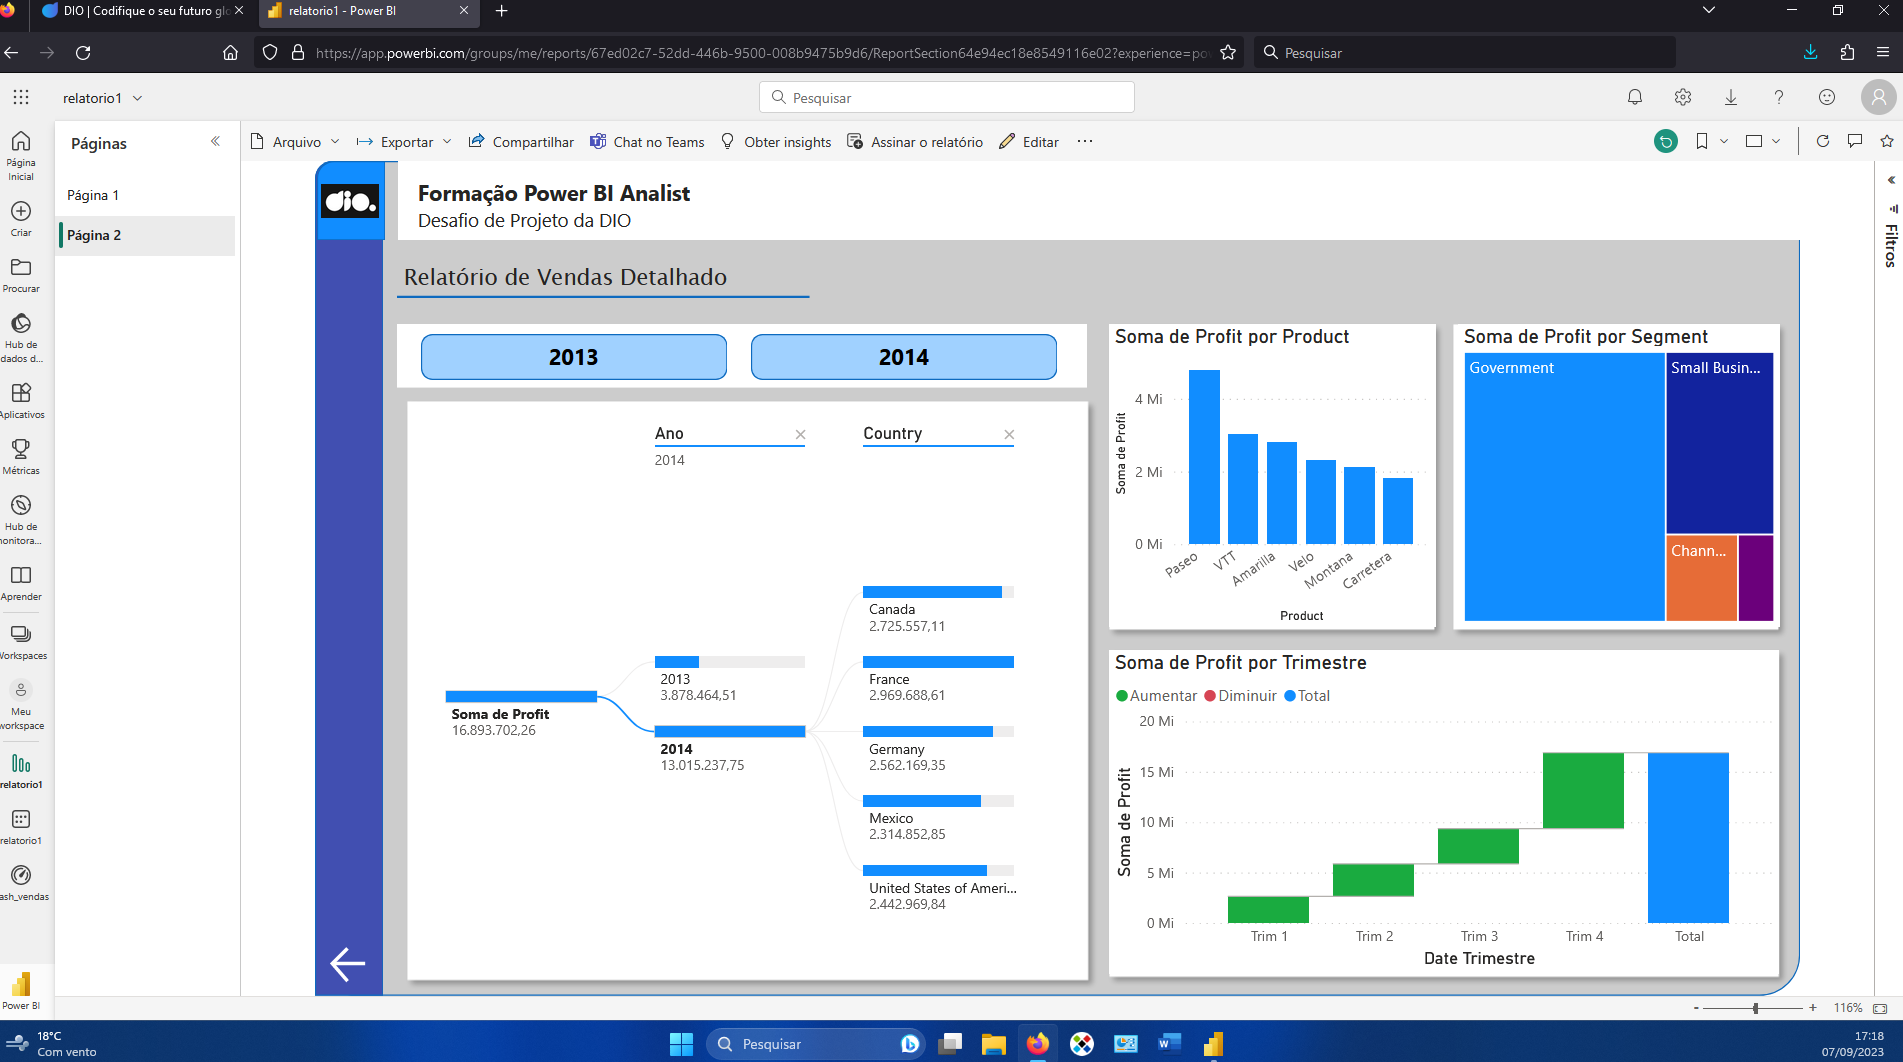

What the dashboard file says about the page in this screenshot:
{"tool":"powerbi","page":{"name":"Página 2","canvas":[1280,720],"ordinal":1},"visuals":[{"type":"shape","box":[0,0,1280.6,719.8],"z":0},{"type":"image","title":"logo_dio","box":[0,0,60.3,68.6],"z":0,"group":"g1"},{"type":"shape","box":[0,0,59,719.8],"z":2000},{"type":"shape","box":[1.4,0,59,68.6],"z":4000},{"type":"shape","box":[71.3,0,1209.3,68.6],"z":5000},{"type":"textbox","box":[83.6,9.6,889.8,59],"z":6000},{"type":"shape","box":[70.9,140.6,595.3,55],"z":7000},{"type":"textbox","box":[71.3,82.3,682.8,43.9],"z":12000},{"type":"shape","box":[70.9,94.1,355.7,46.5],"z":13000},{"type":"shape","box":[70.9,198,605.1,517.1],"z":14000},{"type":"shape","box":[676,413.2,595.3,299.5],"z":15000},{"type":"shape","box":[676,132,298.3,281.2],"z":17000},{"type":"group","id":"g1","title":"filtro_por_data","box":[0,0,60.3,68.6],"z":21000},{"type":"actionButton","box":[8.6,672.3,100.2,40.3],"z":23001},{"type":"shape","box":[973,132,298.3,281.2],"z":23002},{"type":"treemap","fields":{"Values":["Sum(financials.Profit)"],"Group":["financials.Segment"]},"box":[985.3,140.6,277.5,261.6],"z":23003},{"type":"decompositionTreeVisual","fields":{"Analyze":["Sum(financials.Profit)"],"ExplainBy":["financials.Date.Variation.Hierarquia de datas.Ano","financials.Country"]},"box":[83.1,209.6,582.9,482.5],"z":23004},{"type":"shape","box":[91.8,148.8,264.2,39.7],"z":23005},{"type":"shape","box":[375.8,148.8,264.2,39.7],"z":23006},{"type":"waterfallChart","fields":{"Category":["financials.Date.Variation.Hierarquia de datas.Trimestre"],"Y":["Sum(financials.Profit)"]},"box":[684.7,421.7,578,279.1],"z":23007},{"type":"columnChart","fields":{"Category":["financials.Product"],"Y":["Sum(financials.Profit)"]},"box":[684.7,140.2,281.6,261.7],"z":23008}]}

Visuals, with their boxes on the page's 1280x720 design canvas (x1, y1, x2, y2). These are canvas units, not pixel positions in the 1903x1062 screenshot, which may show the page scaled, cropped or inside an application window:
shape: 0,0,1281,720
"logo_dio" image: 0,0,60,69
shape: 0,0,59,720
shape: 1,0,60,69
shape: 71,0,1281,69
textbox: 84,10,973,69
shape: 71,141,666,196
textbox: 71,82,754,126
shape: 71,94,427,141
shape: 71,198,676,715
shape: 676,413,1271,713
shape: 676,132,974,413
"filtro_por_data" group: 0,0,60,69
actionButton: 9,672,109,713
shape: 973,132,1271,413
treemap - Sum(financials.Profit) x financials.Segment: 985,141,1263,402
decompositionTreeVisual - Sum(financials.Profit) x financials.Date.Variation.Hierarquia de datas.Ano: 83,210,666,692
shape: 92,149,356,188
shape: 376,149,640,188
waterfallChart - financials.Date.Variation.Hierarquia de datas.Trimestre x Sum(financials.Profit): 685,422,1263,701
columnChart - financials.Product x Sum(financials.Profit): 685,140,966,402
